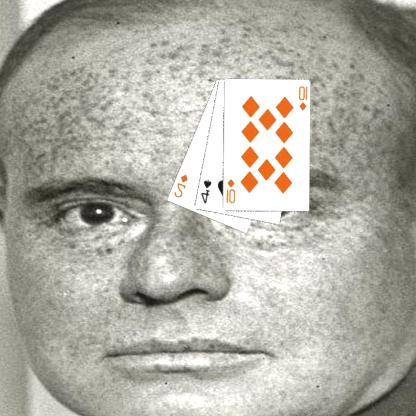10D: (225, 177, 238, 205), (297, 84, 310, 112)
2D: (173, 172, 190, 199)
4S: (200, 177, 214, 205)
